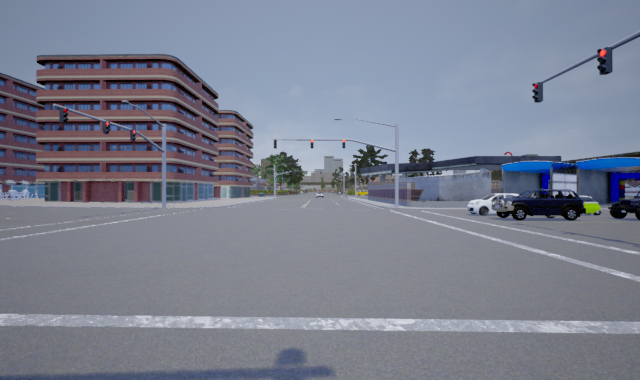traffic_light: (597, 46, 613, 76), (532, 81, 543, 104), (60, 106, 69, 125), (102, 118, 111, 134), (130, 127, 136, 145), (309, 137, 315, 149), (341, 138, 346, 149)
vehicle: (493, 187, 588, 220), (465, 193, 530, 217), (608, 187, 639, 221), (556, 195, 605, 215)
